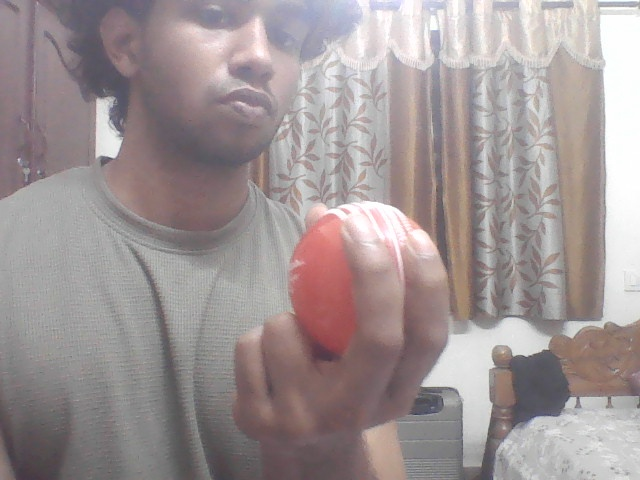cricket_ball: (285, 197, 426, 342)
